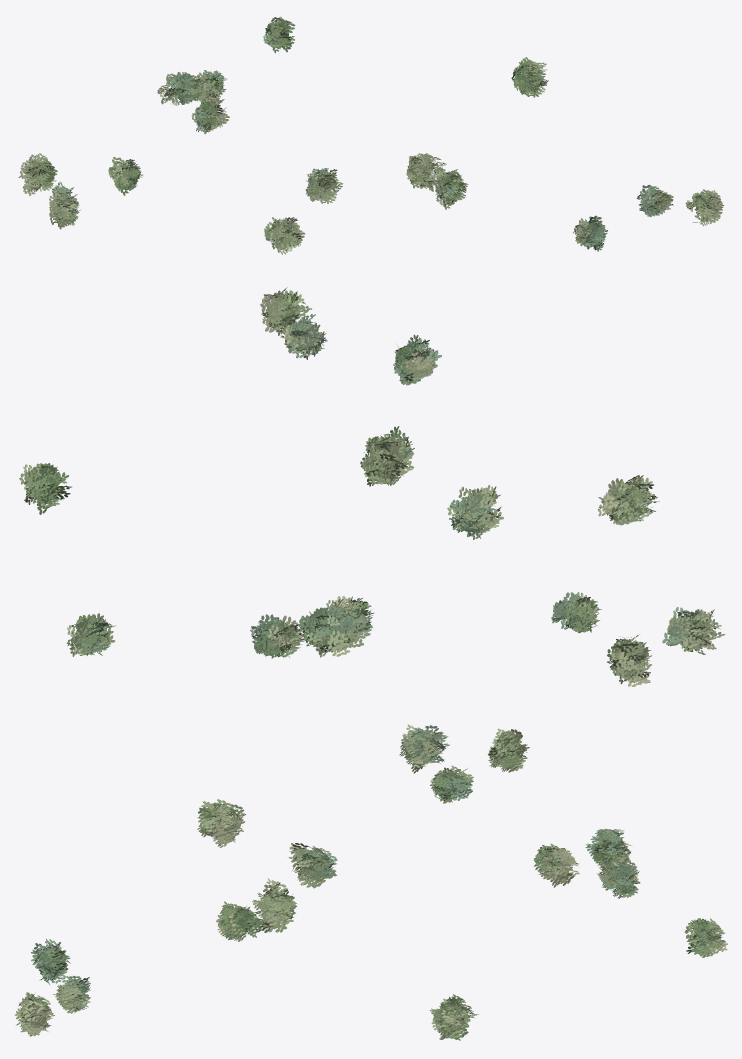
File: campus-tree--1_-2-far.glb
3 views of the same model, one above another, from view 1: azimuth 30°, elevation 25°; view 2: azimuth 150°, elevation 25°; view 3: azimuth 270°, elevation 25° (orthographic). The views are drawn at different scales.
Visible parts, largest first — view 1: Campus leaf canopy; view 2: Campus leaf canopy; view 3: Campus leaf canopy.
Part boxes in pixels (x1,y1,x2,y2): Campus leaf canopy: [18, 16, 724, 254]; Campus leaf canopy: [19, 287, 725, 686]; Campus leaf canopy: [14, 724, 727, 1040].
Size of the model in its own units: 81.05 by 7.63 by 82.62.
1 material, 1 textured.
